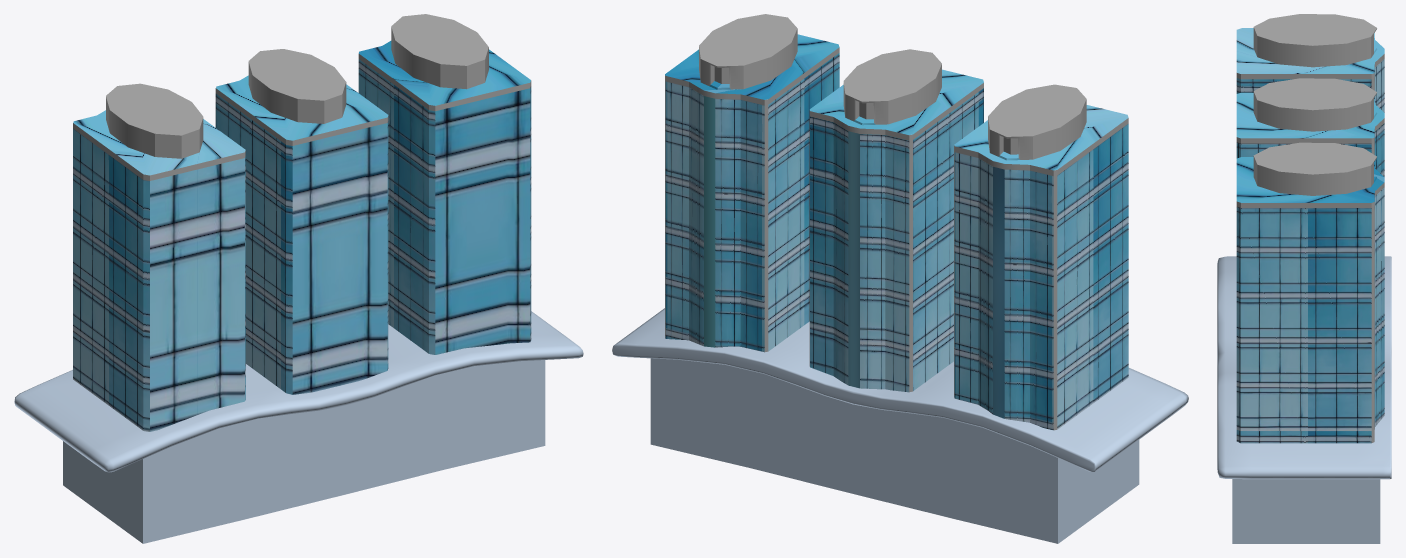
File: centurus2.fbx
3 renders of one model, left to right at view 1: azimuth 30°, elevation 25°; view 2: azimuth 150°, elevation 25°; view 3: azimuth 270°, elevation 25°, orthographic. The views are drawn at different scales.
Parts seen in each view (by area): view 1: Cube.001, Cube.002, Cube; view 2: Cube.001, Cube.002, Cube; view 3: Cube.001, Cube, Cube.002.
Part boxes in pixels (bbox=[...]): Cube.001: bbox=[73, 14, 531, 431]; Cube.002: bbox=[63, 360, 545, 543]; Cube: bbox=[14, 311, 583, 472]; Cube.001: bbox=[665, 14, 1128, 430]; Cube.002: bbox=[650, 358, 1139, 543]; Cube: bbox=[612, 308, 1188, 471]; Cube.001: bbox=[1236, 14, 1384, 443]; Cube: bbox=[1217, 256, 1391, 479]; Cube.002: bbox=[1232, 479, 1380, 543].
Bounding box in the file's own units: 410 × 319 × 140.
Materials: 4 (1 with a texture image).
